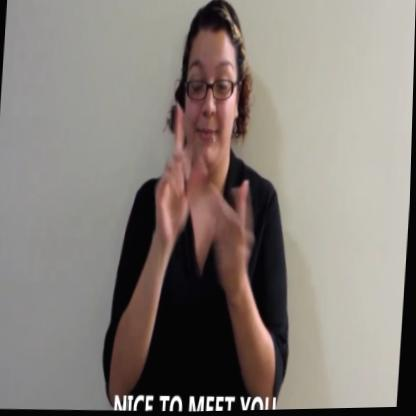NiceToMeetYou: (145, 99, 261, 307)
